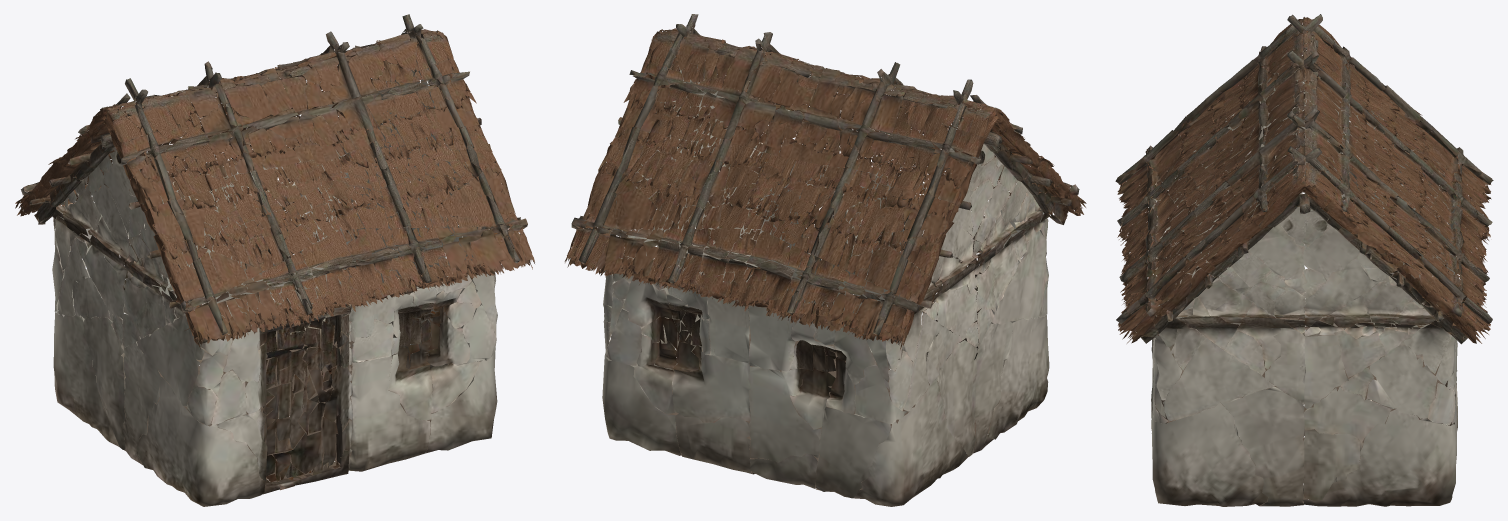
Rendered from village-house.glb.
3 renders of one model, left to right at view 1: azimuth 30°, elevation 25°; view 2: azimuth 150°, elevation 25°; view 3: azimuth 270°, elevation 25°, orthographic. The views are drawn at different scales.
Visible parts, largest first — view 1: Mesh_0; view 2: Mesh_0; view 3: Mesh_0.
Part boxes in pixels (x1,y1,x2,y2): Mesh_0: (15,14,534,506); Mesh_0: (564,14,1086,506); Mesh_0: (1115,14,1493,506).
Size of the model in its own units: 3.19 by 3.2 by 3.06.
1 material, 1 textured.
